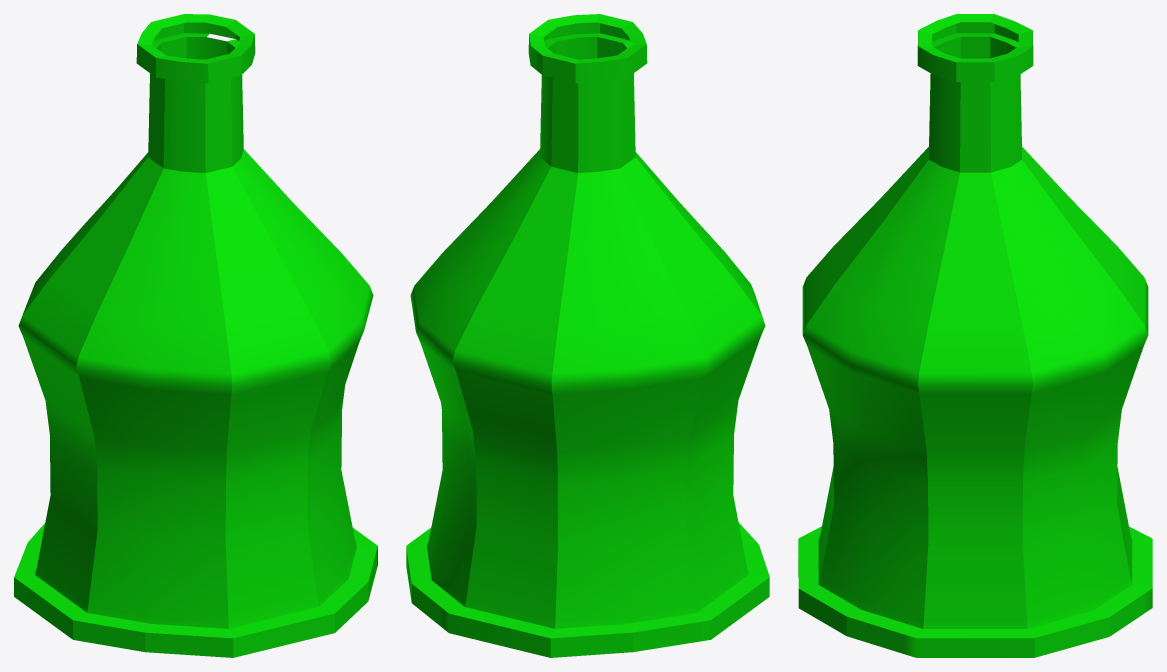
The model's file is potion2.fbx.
The picture shows the model from 3 angles, left to right: view 1: azimuth 30°, elevation 25°; view 2: azimuth 150°, elevation 25°; view 3: azimuth 270°, elevation 25°; orthographic projection.
Parts seen in each view (by area): view 1: pCube2; view 2: pCube2; view 3: pCube2.
Part boxes in pixels (x1,y1,x2,y2): pCube2: (14,14,377,657); pCube2: (406,14,769,657); pCube2: (798,14,1152,657).
Bounding box in the file's own units: 3.47 × 5.89 × 3.47.
